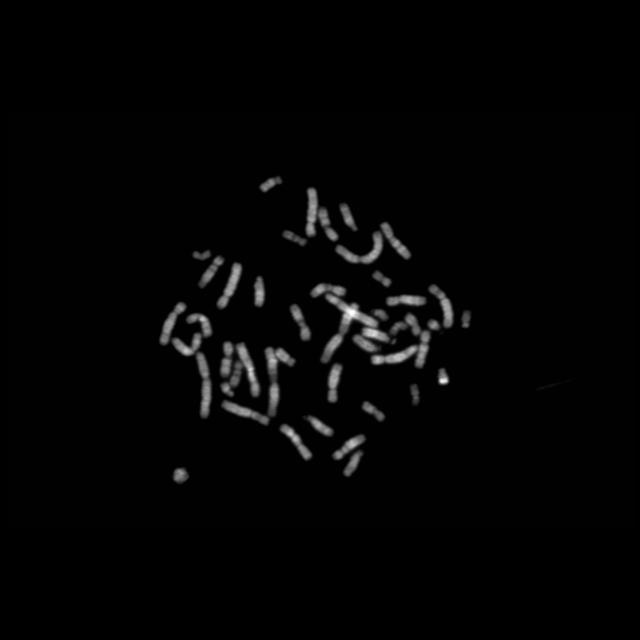chromosome: (320, 303, 358, 363), (326, 294, 378, 326), (336, 231, 382, 263), (221, 400, 269, 426), (238, 342, 260, 396), (381, 222, 412, 260), (280, 424, 312, 460), (218, 262, 242, 308), (160, 302, 186, 344), (430, 284, 452, 328), (265, 348, 279, 417), (332, 434, 366, 462), (197, 352, 211, 418), (372, 345, 418, 365), (198, 256, 224, 288), (290, 304, 310, 340), (414, 330, 432, 368), (173, 332, 201, 356), (318, 208, 338, 240), (186, 312, 212, 336), (306, 188, 318, 236), (308, 414, 334, 436), (312, 282, 346, 298), (328, 364, 342, 402), (344, 450, 364, 476), (340, 203, 358, 231), (352, 335, 378, 353), (362, 327, 390, 343), (274, 346, 296, 366), (363, 401, 385, 421), (221, 342, 233, 376), (388, 296, 426, 306), (284, 230, 306, 246), (406, 314, 422, 336), (253, 276, 264, 306), (230, 361, 242, 387), (260, 178, 282, 192), (373, 271, 391, 287), (173, 468, 189, 484), (389, 321, 407, 335), (221, 382, 234, 396), (461, 310, 471, 328), (412, 384, 420, 406), (194, 250, 211, 260), (374, 308, 388, 320), (439, 368, 449, 384), (428, 320, 439, 330)
